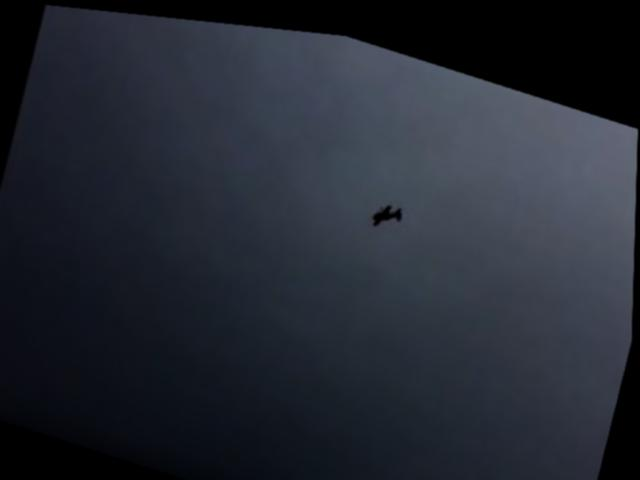uav: (360, 182, 414, 235)
